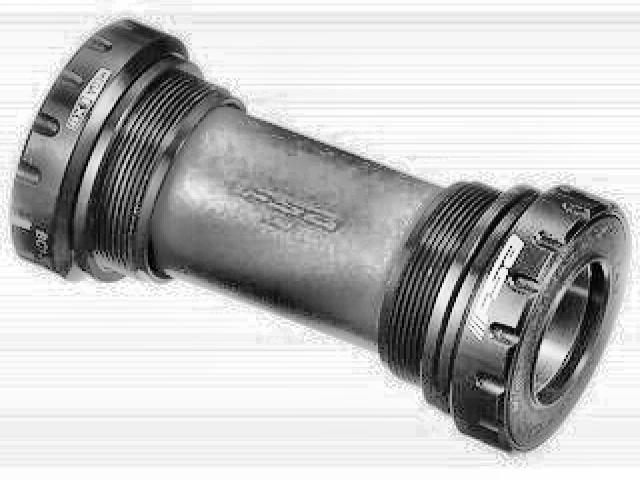bottom_bracket: (9, 14, 632, 455)
